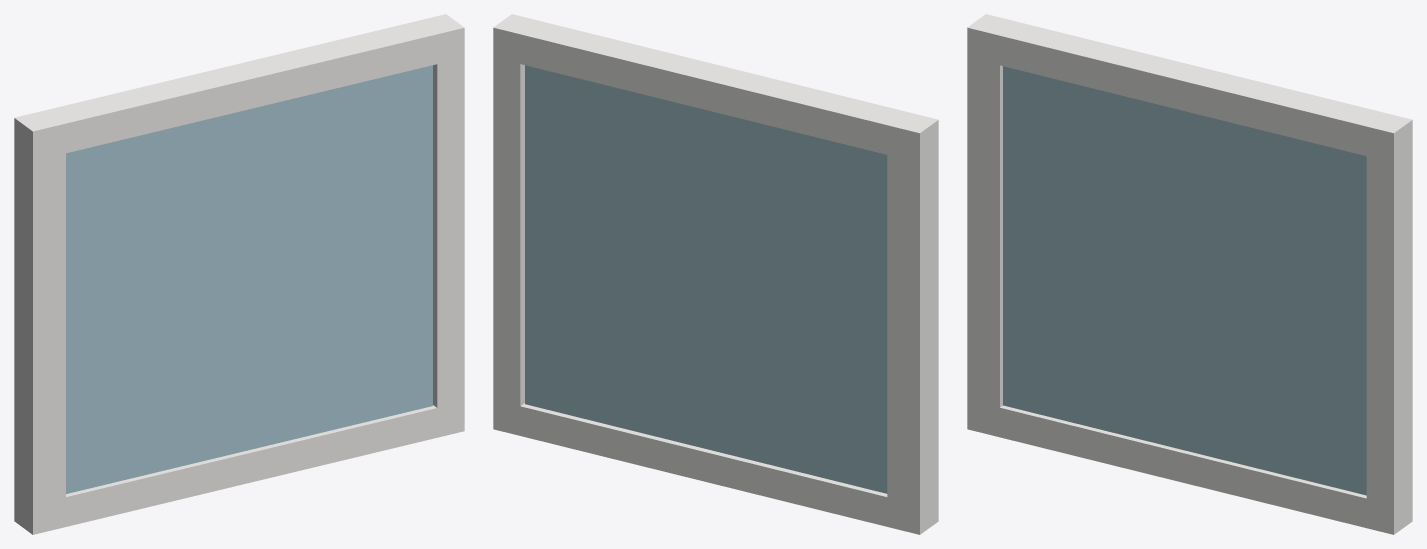
Rendered from Window_27.fbx.
3 renders of one model, left to right at view 1: azimuth 30°, elevation 25°; view 2: azimuth 150°, elevation 25°; view 3: azimuth 330°, elevation 25°, orthographic.
Parts seen in each view (by area): view 1: Window_27; view 2: Window_27; view 3: Window_27.
Part boxes in pixels (box(x1,y1,x2,y2)): Window_27: box(14, 14, 464, 534); Window_27: box(493, 14, 938, 534); Window_27: box(967, 14, 1412, 534).
Size of the model in its own units: 182 by 14.93 by 163.
